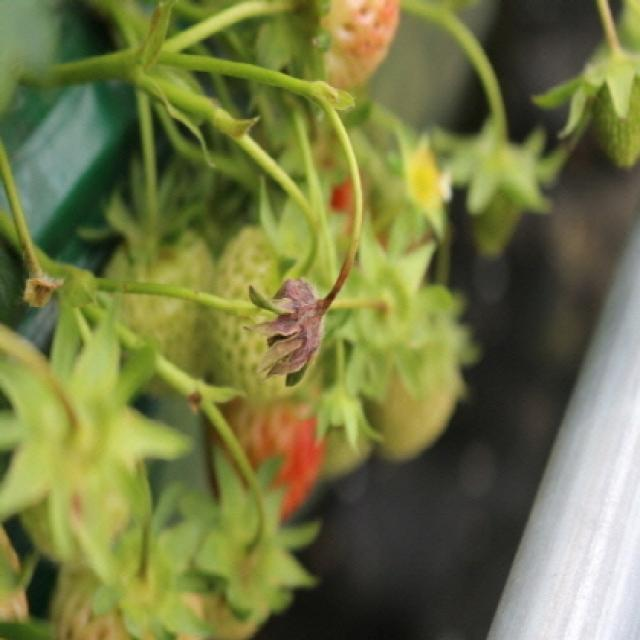Gray Mold: (243, 278, 342, 388)
